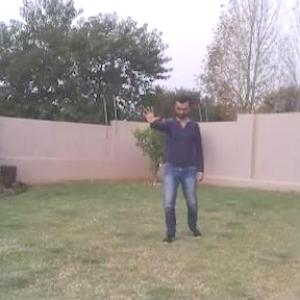follow_hand: (138, 101, 162, 126)
